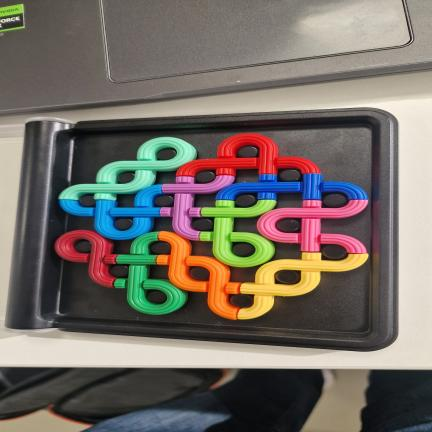A_Yellow: (238, 252, 368, 319)
B_SkyBlue: (60, 185, 164, 239)
C_DarkBlue: (216, 174, 368, 200)
D_Green: (115, 232, 187, 314)
E_Red: (177, 134, 320, 177)
F_Teal: (59, 138, 196, 201)
G_Pink: (257, 200, 368, 253)
H_Purple: (160, 176, 234, 240)
I_Orange: (156, 231, 241, 319)
J_DarkRed: (55, 230, 117, 287)
K_YellowGreen: (200, 200, 276, 267)
board: (7, 108, 398, 351)
hinge: (6, 120, 56, 327)
pin: (322, 245, 347, 259), (275, 270, 300, 284), (229, 294, 254, 308), (276, 218, 299, 233), (323, 194, 348, 207), (233, 243, 255, 257), (150, 241, 171, 255), (146, 290, 167, 304), (279, 169, 301, 182), (235, 194, 257, 207), (192, 218, 213, 231), (237, 146, 259, 158), (195, 171, 216, 183), (190, 267, 209, 280), (115, 218, 133, 231), (74, 240, 92, 253), (157, 148, 176, 160), (155, 195, 174, 207), (110, 265, 129, 277), (79, 195, 96, 207), (118, 172, 135, 183)
